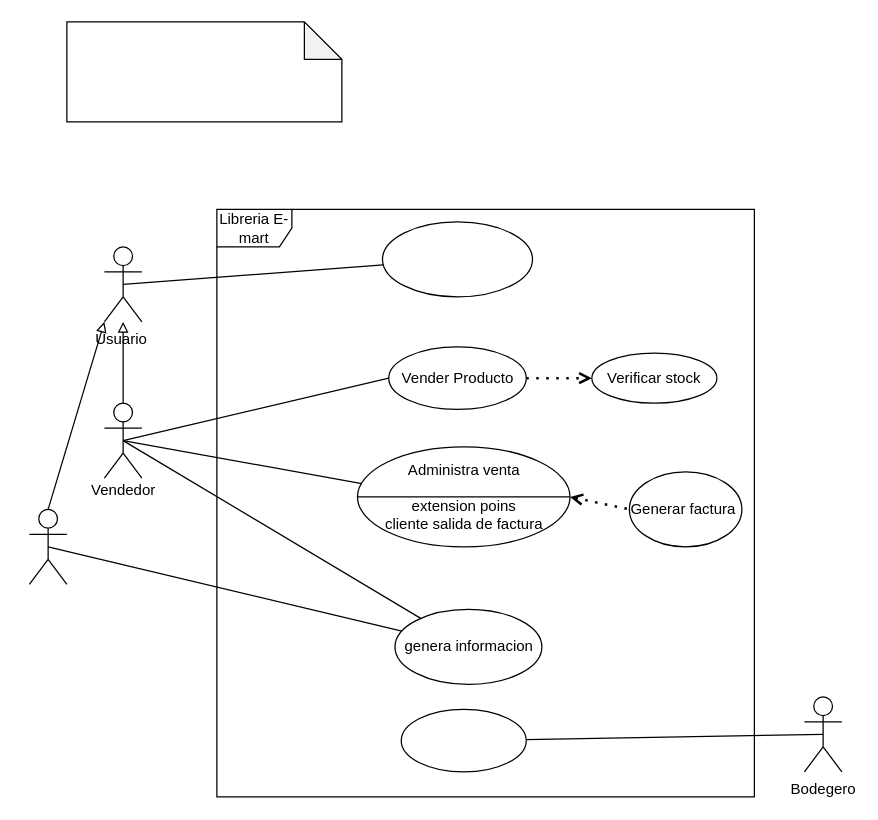
The diagram is 878 pixels wide and 820 high, and some of its shapes have lost their labels. The centre of each missing label's shape, as x and y in pixels:
<<CRUD>> Gestiona Productos: the point at 463,740
Gerente: the point at 47,546
Inicia Sesion: the point at 456,259
Name:Johnny Alexander Armijos Ramon: the point at 204,71
